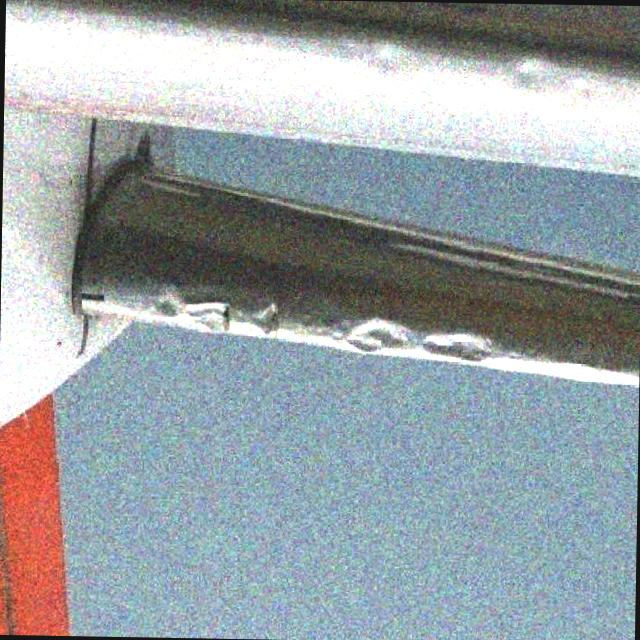dent: (342, 316, 417, 358), (421, 325, 496, 366), (190, 290, 233, 336), (148, 281, 189, 324), (510, 56, 542, 93), (248, 306, 278, 337)
